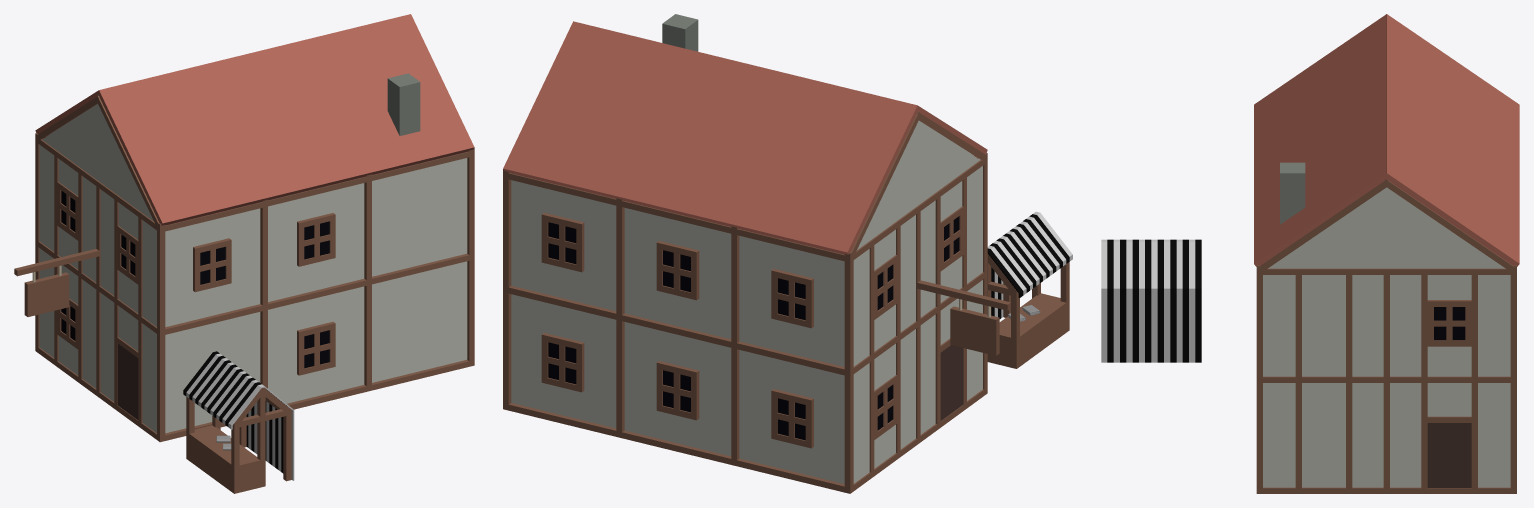
The model's file is timberframedclothier_black_white.obj.
3 views of the same model, side by side, from view 1: azimuth 30°, elevation 25°; view 2: azimuth 150°, elevation 25°; view 3: azimuth 270°, elevation 25° (orthographic). The views are drawn at different scales.
Parts seen in each view (by area): view 1: Cube.005, Cube.007_Cube.011, Cube.011_Cube.015, Cube.018_Cube.016, Cube.026_Cube.019, Cube.006_Cube.010, Cube.001_Cube.058, Cube.056_Cube.081, Cube.013_Cube.080, Cube.055_Cube.059, Cube.147_Cube.153, Cube.012_Cube.017 (+24 smaller); view 2: Cube.005, Cube.007_Cube.011, Cube.023_Cube.026, Cube.022_Cube.025, Cube.021_Cube.024, Cube.028, Cube.019_Cube.022, Cube.017_Cube.021, Cube.014_Cube.018, Cube.008, Cube.015_Cube.020, Cube.020_Cube.023 (+23 smaller); view 3: Cube.005, Cube.007_Cube.011, Cube.147_Cube.153, Cube.003, Cube.033, Cube.016_Cube.013, Cube.031, Cube.032, Cube.012_Cube.017, Cube.027, Cube.046_Cube.048, Cube.047_Cube.049 (+6 smaller).
Part boxes in pixels (x1,y1,x2,y2): Cube.005: (39,104,467,433); Cube.007_Cube.011: (35,14,474,225); Cube.011_Cube.015: (161,253,470,334); Cube.018_Cube.016: (161,151,469,231); Cube.026_Cube.019: (157,223,165,442); Cube.006_Cube.010: (387,73,420,135); Cube.001_Cube.058: (297,321,335,375); Cube.056_Cube.081: (193,238,231,292); Cube.013_Cube.080: (297,213,335,266); Cube.055_Cube.059: (163,360,473,440); Cube.147_Cube.153: (246,401,294,480); Cube.012_Cube.017: (467,148,474,366); Cube.005: (511,120,982,483); Cube.007_Cube.011: (503,21,987,254); Cube.023_Cube.026: (505,403,848,493); Cube.022_Cube.025: (504,286,848,375); Cube.021_Cube.024: (505,173,848,261); Cube.028: (844,252,853,493); Cube.019_Cube.022: (656,361,699,420); Cube.017_Cube.021: (541,333,584,392); Cube.014_Cube.018: (656,241,699,300); Cube.008: (541,213,584,272); Cube.015_Cube.020: (771,269,813,328); Cube.020_Cube.023: (771,389,813,448); Cube.005: (1263,187,1510,487); Cube.007_Cube.011: (1254,14,1519,266); Cube.147_Cube.153: (1101,288,1201,362); Cube.003: (1427,423,1471,487); Cube.033: (1427,300,1471,346); Cube.016_Cube.013: (1261,376,1511,382); Cube.031: (1261,487,1512,493); Cube.032: (1261,268,1512,274); Cube.012_Cube.017: (1256,265,1262,493); Cube.027: (1510,265,1516,493); Cube.046_Cube.048: (1346,268,1352,490); Cube.047_Cube.049: (1295,268,1301,490).
Size of the model in its own units: 15.3 by 11.25 by 13.34.
